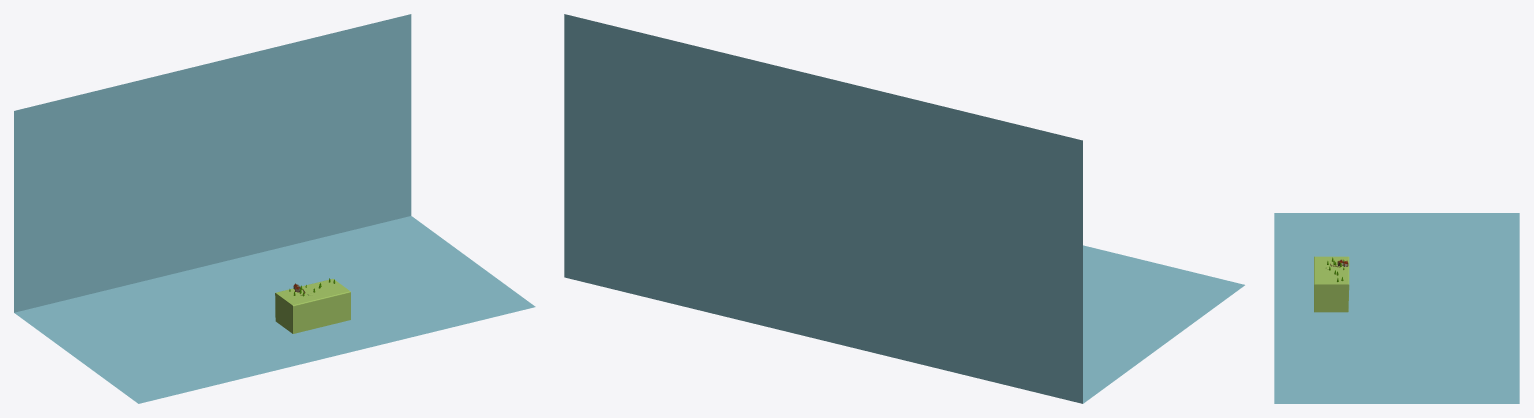
The model's file is Environment.fbx.
The picture shows the model from 3 angles, left to right: view 1: azimuth 30°, elevation 25°; view 2: azimuth 150°, elevation 25°; view 3: azimuth 270°, elevation 25°; orthographic projection. The views are drawn at different scales.
Parts seen in each view (by area): view 1: Plane.009; view 2: Plane.009; view 3: Plane.009.
Boxes of the visible parts, box(x1,y1,x2,y2) form: Plane.009: box(14, 14, 535, 403); Plane.009: box(564, 14, 1244, 403); Plane.009: box(1274, 213, 1519, 403).
Bounding box in the file's own units: 27309 × 13256 × 14826.
